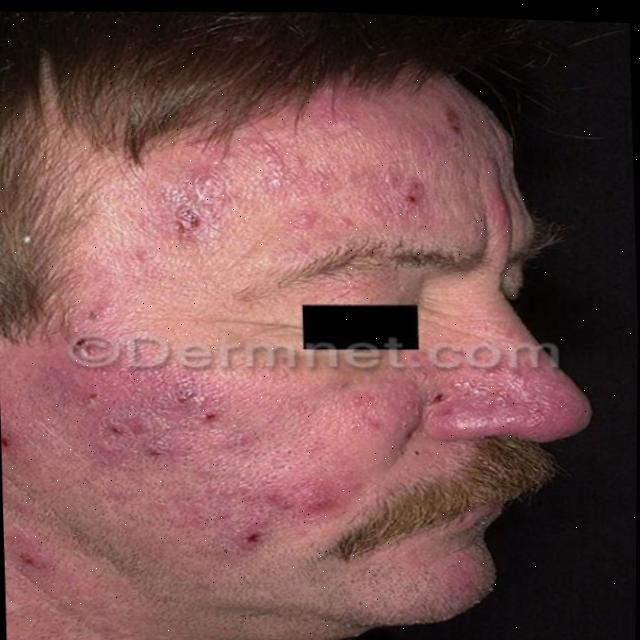Rosacea: (55, 355, 336, 575), (128, 130, 458, 241), (426, 337, 586, 424)
